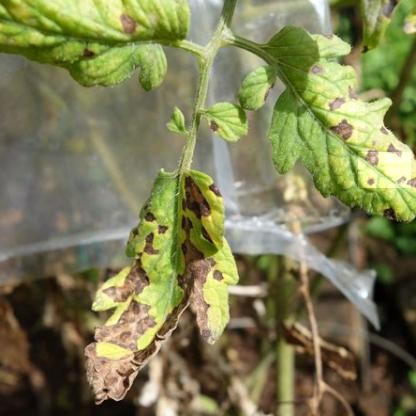black-spot: (358, 152, 411, 188), (325, 102, 365, 147)
